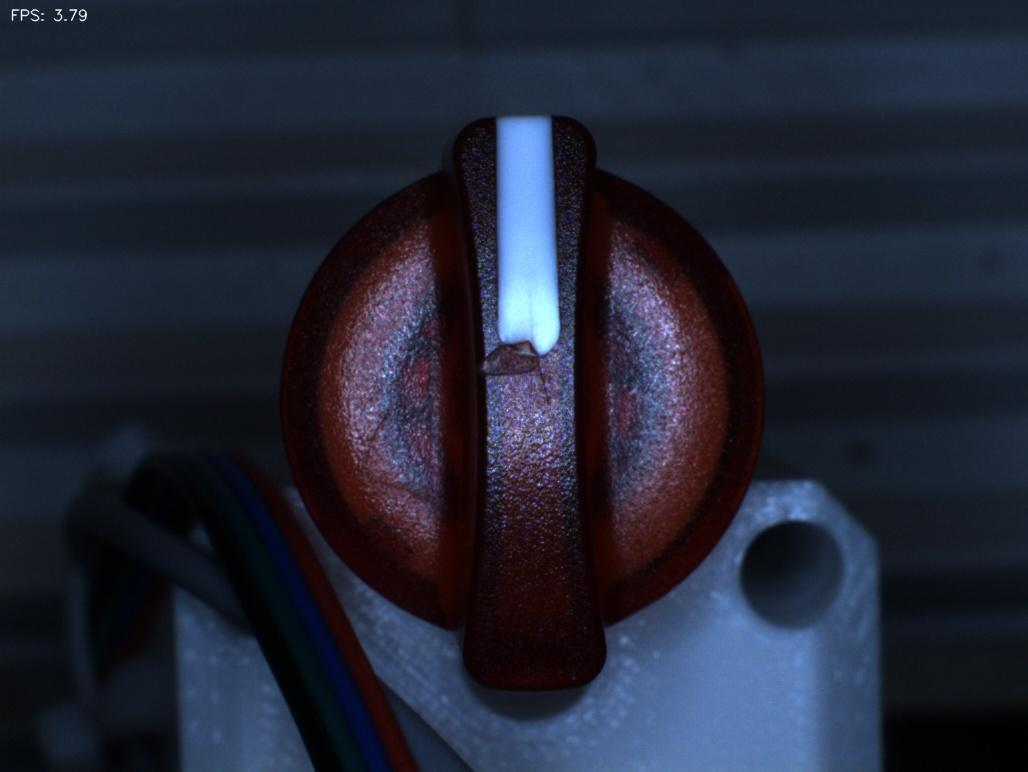Choc: (465, 315, 560, 403)
